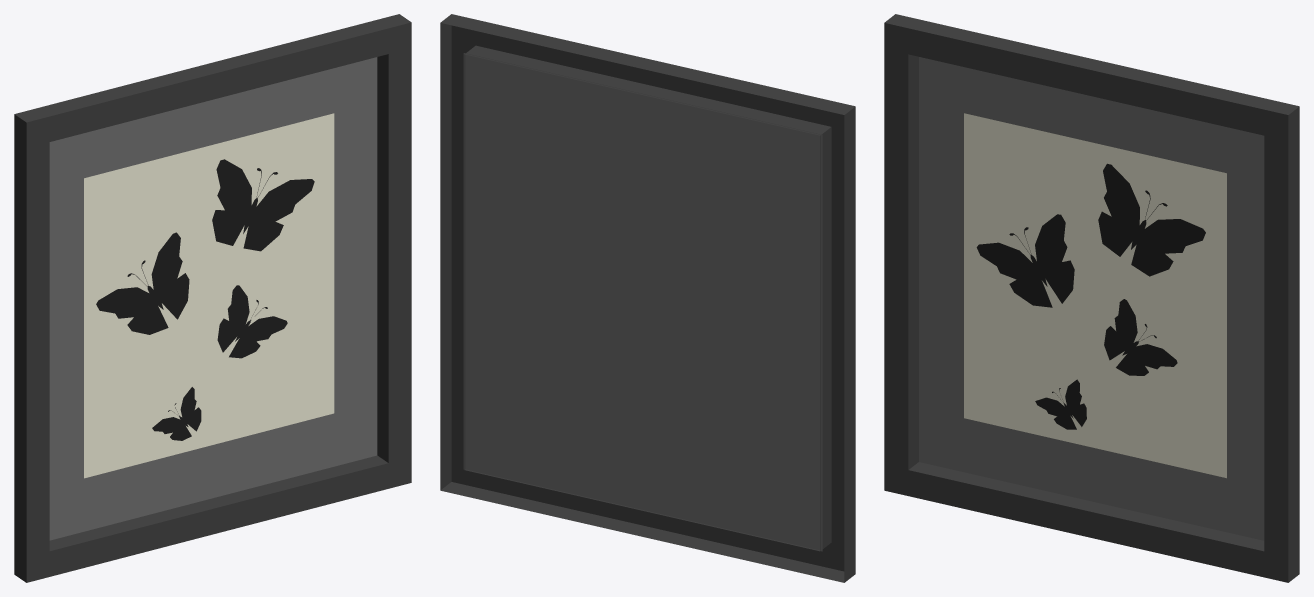
File: Photo_Frame_M_03.fbx
3 views of the same model, side by side, from view 1: azimuth 30°, elevation 25°; view 2: azimuth 150°, elevation 25°; view 3: azimuth 330°, elevation 25° (orthographic).
Visible parts, largest first — view 1: Photo_Frame_M_03; view 2: Photo_Frame_M_03; view 3: Photo_Frame_M_03.
Part boxes in pixels (x1=…): Photo_Frame_M_03: x1=14, y1=14, x2=411, y2=582; Photo_Frame_M_03: x1=440, y1=14, x2=855, y2=582; Photo_Frame_M_03: x1=884, y1=14, x2=1299, y2=582.
Bounding box in the file's own units: 55.43 × 62.21 × 4.41.
1 material, 1 textured.
